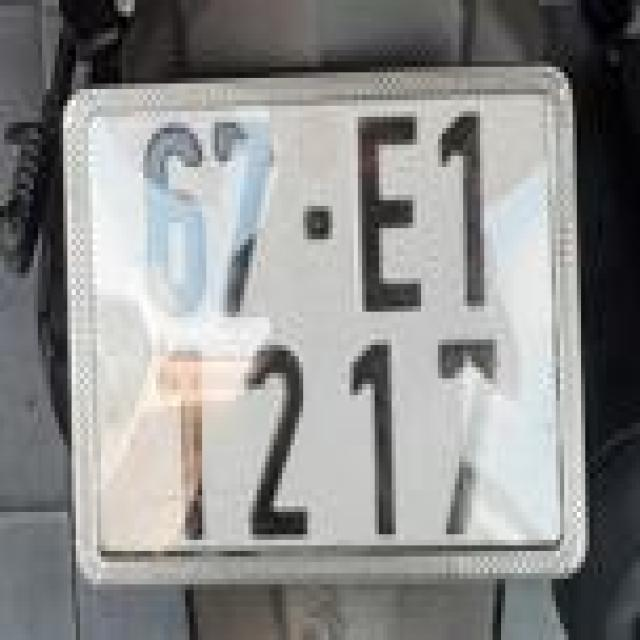1: (432, 98, 516, 331), (339, 334, 415, 556), (152, 331, 214, 548)
2: (232, 323, 316, 556)
6: (134, 108, 210, 326)
7: (211, 106, 282, 328), (432, 328, 499, 540)
E: (337, 95, 438, 328)
